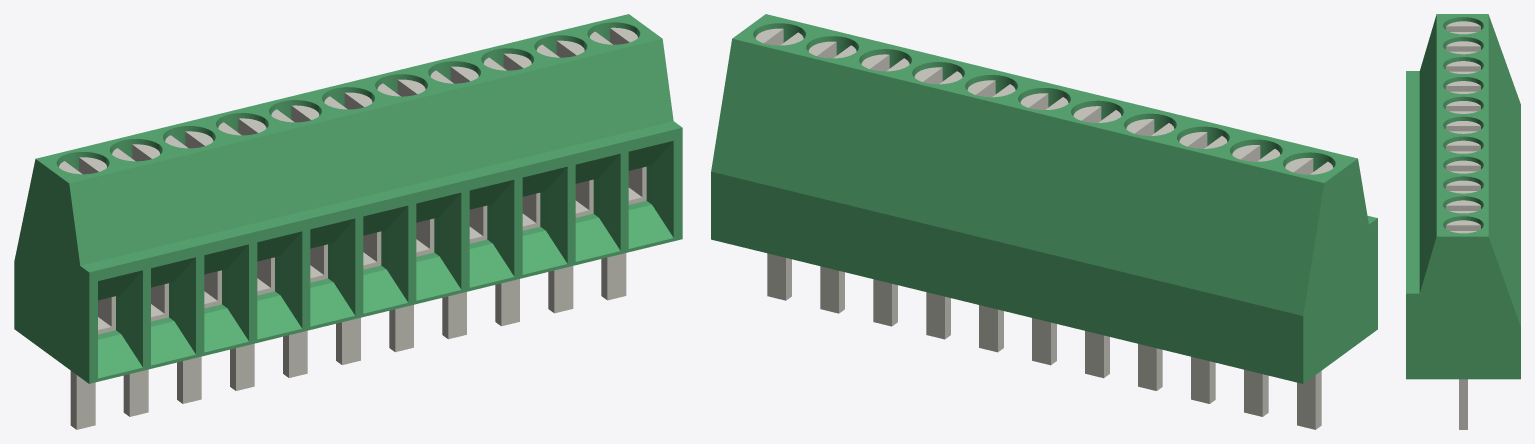
File: kc-terminalblock_phoenix_mpt-0_5-11-2.54_1x11_p2.54mm_horizontal.glb
The picture shows the model from 3 angles, left to right: view 1: azimuth 30°, elevation 25°; view 2: azimuth 150°, elevation 25°; view 3: azimuth 270°, elevation 25°; orthographic projection. The views are drawn at different scales.
Visible parts, largest first — view 1: 0.08333333333333333_0.4166666666666667_0.16666666666666666_0, 0.6666666666666666_0.6666666666666666_0.5833333333333334_0.8; view 2: 0.08333333333333333_0.4166666666666667_0.16666666666666666_0, 0.6666666666666666_0.6666666666666666_0.5833333333333334_0.8; view 3: 0.08333333333333333_0.4166666666666667_0.16666666666666666_0, 0.6666666666666666_0.6666666666666666_0.5833333333333334_0.8.
Boxes of the visible parts, x1,y1,x2,y2 form: 0.08333333333333333_0.4166666666666667_0.16666666666666666_0: (14, 14, 682, 383); 0.6666666666666666_0.6666666666666666_0.5833333333333334_0.8: (59, 27, 646, 429); 0.08333333333333333_0.4166666666666667_0.16666666666666666_0: (711, 14, 1377, 383); 0.6666666666666666_0.6666666666666666_0.5833333333333334_0.8: (755, 28, 1333, 429); 0.08333333333333333_0.4166666666666667_0.16666666666666666_0: (1406, 14, 1520, 379); 0.6666666666666666_0.6666666666666666_0.5833333333333334_0.8: (1446, 21, 1480, 429).
Size of the model in its own units: 2.84 by 1.2 by 0.6199.
